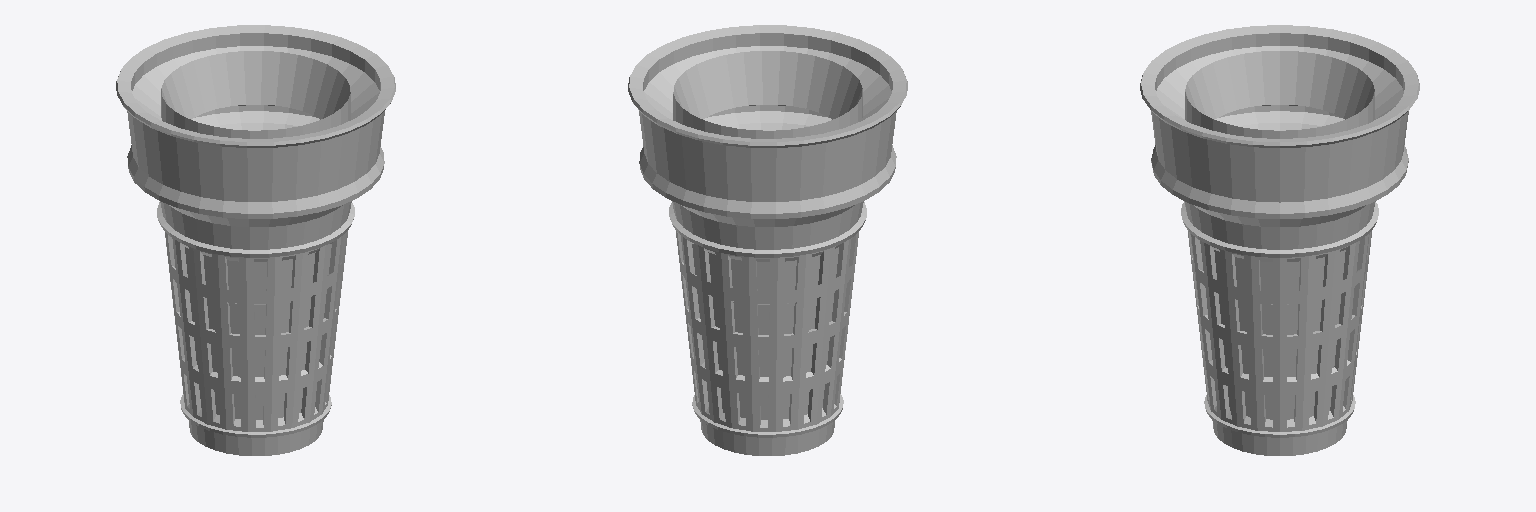
Rendered from IceCreamCone.obj.
The picture shows the model from 3 angles: view 1: azimuth 30°, elevation 25°; view 2: azimuth 150°, elevation 25°; view 3: azimuth 270°, elevation 25°; orthographic projection.
Visible parts, largest first — view 1: Cylinder.010; view 2: Cylinder.010; view 3: Cylinder.010.
Part boxes in pixels (bbox=[...]): Cylinder.010: bbox=[116, 25, 395, 455]; Cylinder.010: bbox=[628, 25, 907, 455]; Cylinder.010: bbox=[1140, 25, 1419, 455].
Bounding box in the file's own units: 0.8381 × 1.13 × 0.8381.